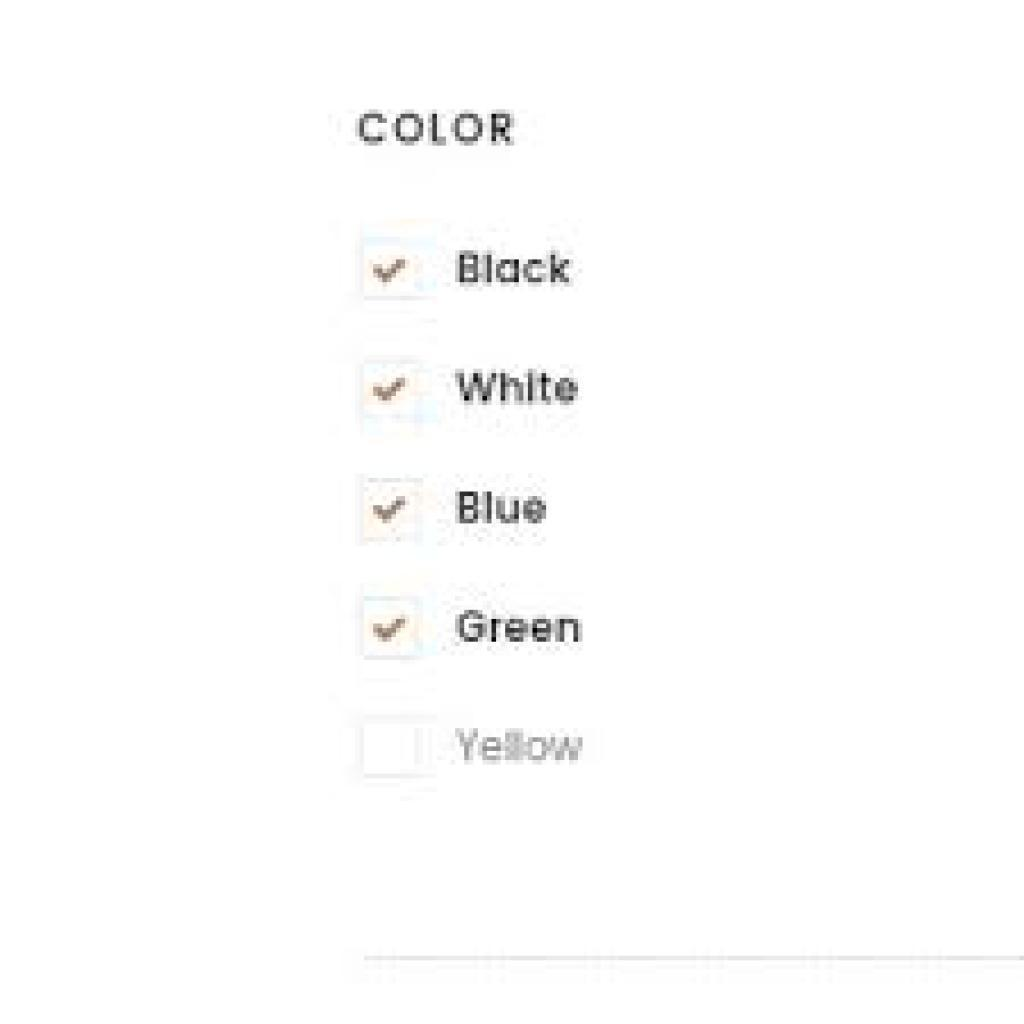checkbox: (358, 475, 425, 543), (360, 242, 424, 302), (360, 717, 419, 781), (362, 599, 420, 661), (356, 362, 420, 414)
label: (458, 713, 590, 777), (353, 100, 516, 151), (459, 357, 586, 414), (454, 607, 588, 656), (451, 246, 581, 296), (453, 484, 552, 538)
